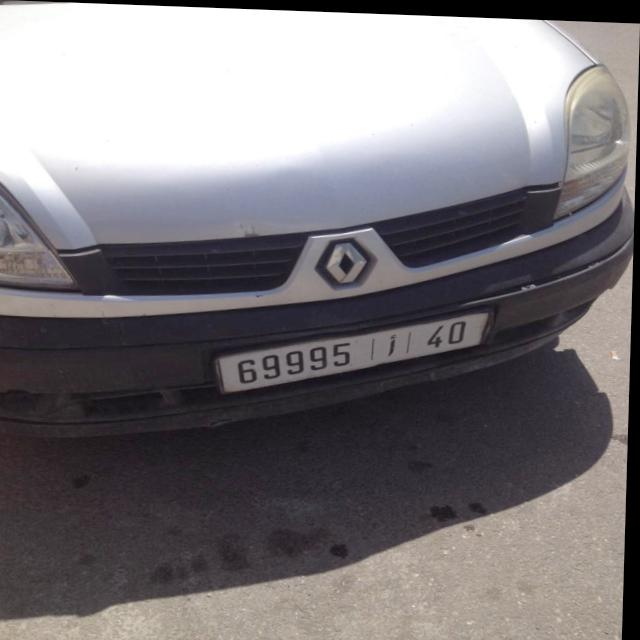License-Plate: (220, 310, 491, 391)
